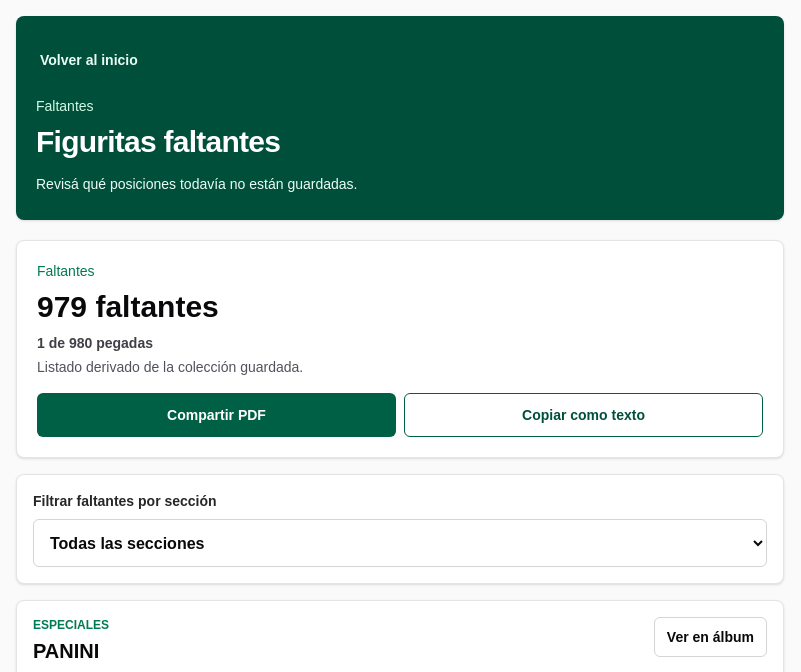
Test: CollectionViews missing › copies the complete missing list text from the loaded collection after filtering
This screenshot has width=801, height=672.
Expected: the heading "979 faltantes" is shown, [37,290,219,323]
Step 1. Select "México" in the dropdown labelled "Filtrar faltantes por sección" → {"x": 400, "y": 543}, box [33,519,767,567]
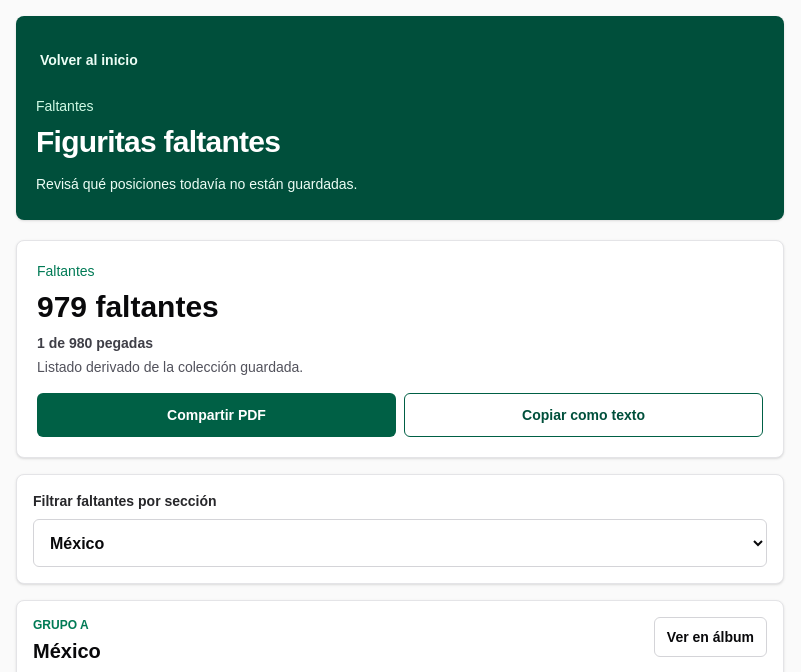
Step 2. Click the button "Copiar como texto" → {"x": 584, "y": 415}, box [404,393,763,437]
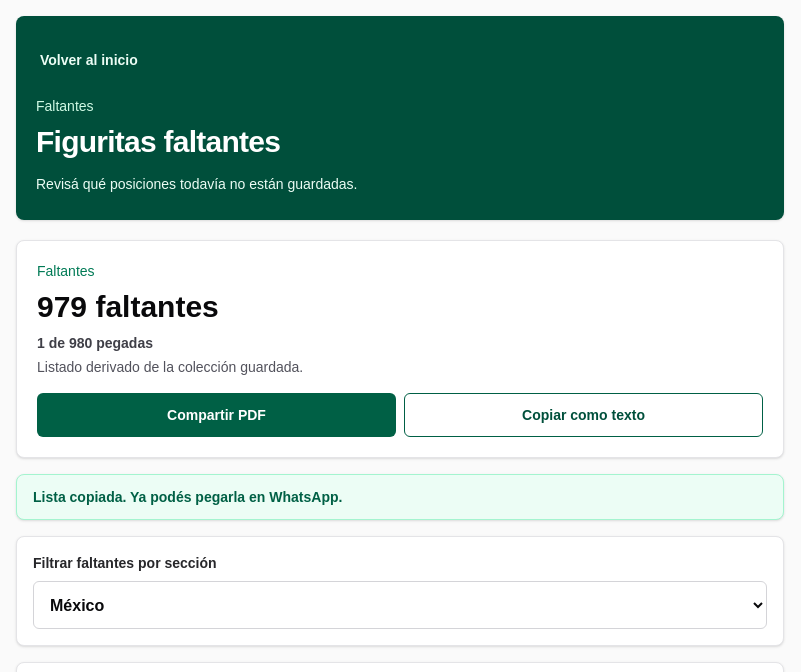
Now the text "Lista copiada. Ya podés pegarla en WhatsApp." is shown, box [16,474,784,520]
